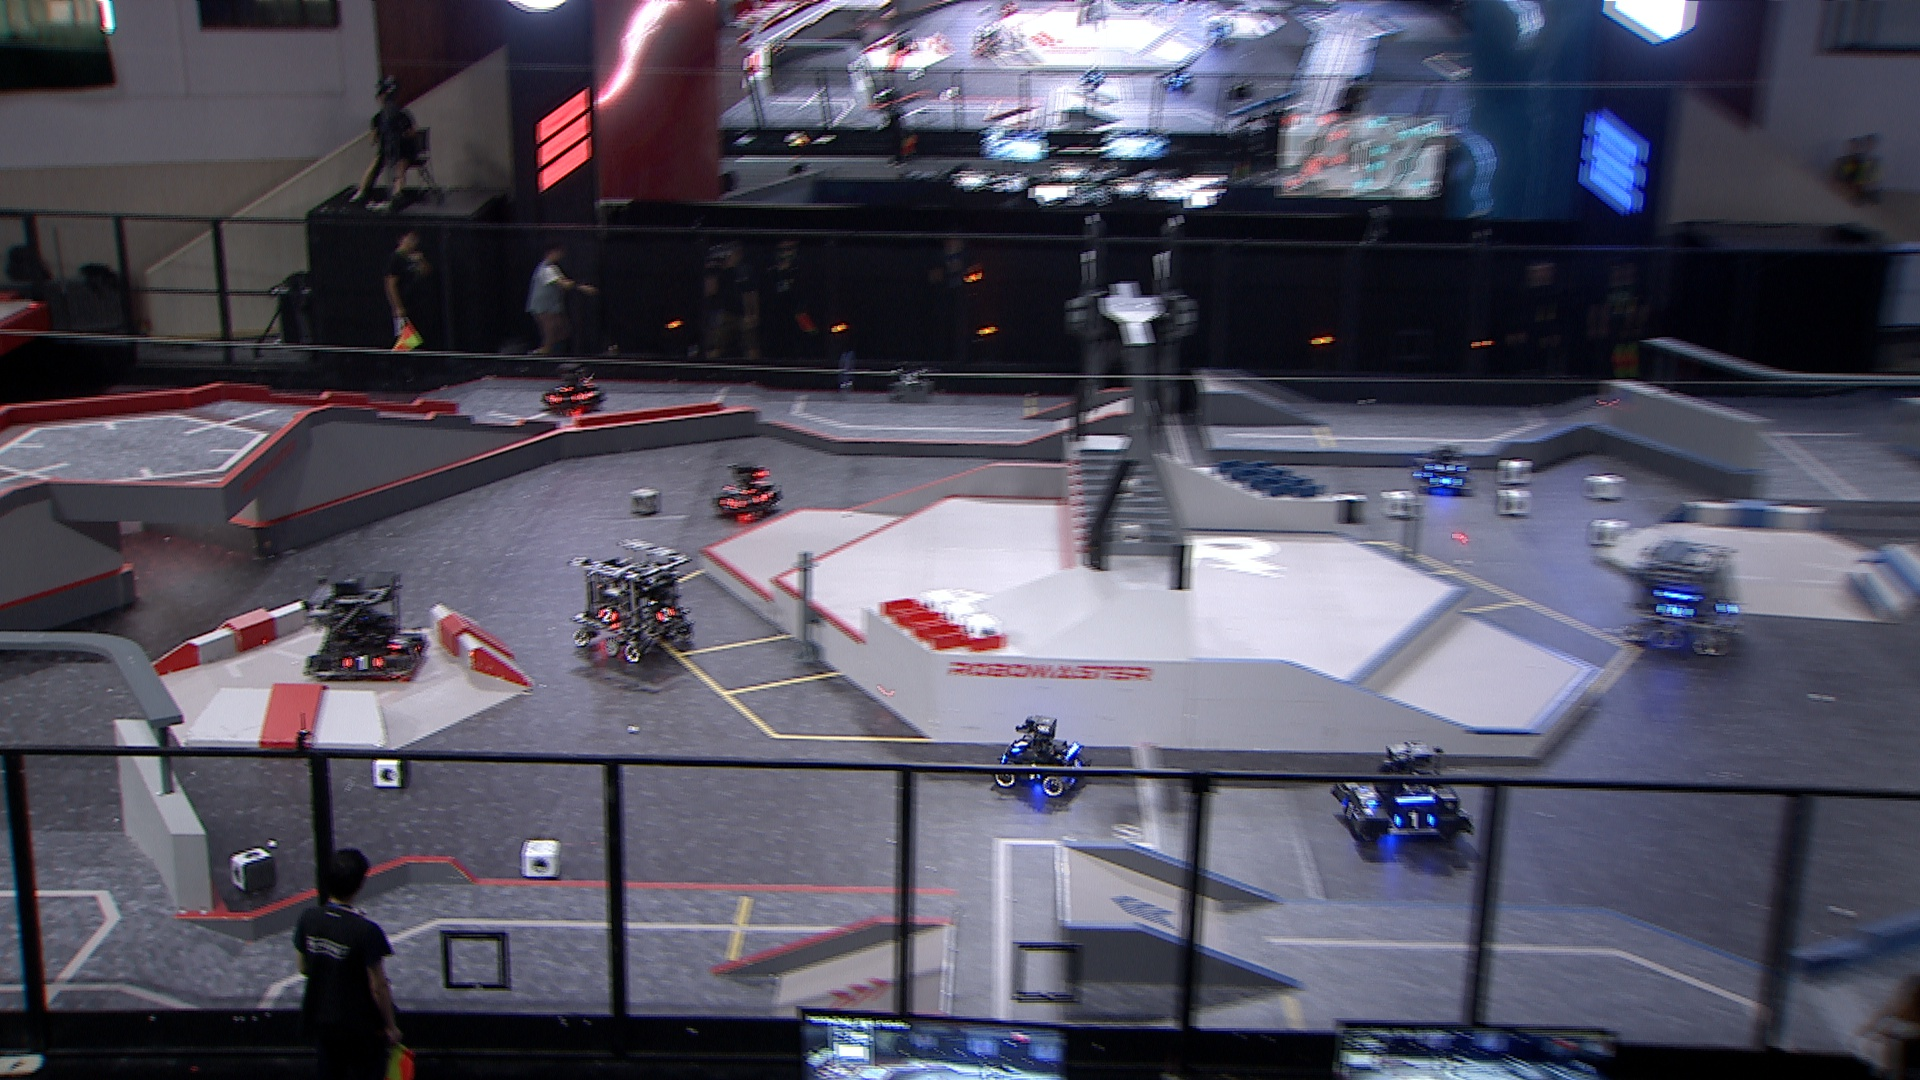armor: (338, 651, 386, 673), (1393, 808, 1437, 831), (1654, 599, 1695, 622), (1353, 782, 1379, 808), (650, 604, 678, 626), (1338, 794, 1360, 822), (1712, 597, 1741, 617), (1427, 458, 1460, 475), (382, 632, 410, 651), (567, 386, 595, 404), (1007, 736, 1030, 756), (1432, 472, 1456, 491), (717, 495, 745, 510), (595, 607, 617, 624), (727, 483, 752, 495), (754, 487, 773, 502), (541, 392, 560, 404)
car: (567, 535, 694, 666), (1327, 738, 1480, 845), (1615, 535, 1745, 657), (301, 564, 429, 684), (989, 709, 1096, 796), (708, 460, 787, 522), (537, 357, 611, 418), (1414, 442, 1476, 493)
ignore: (1163, 65, 1199, 94), (1077, 63, 1106, 94)
